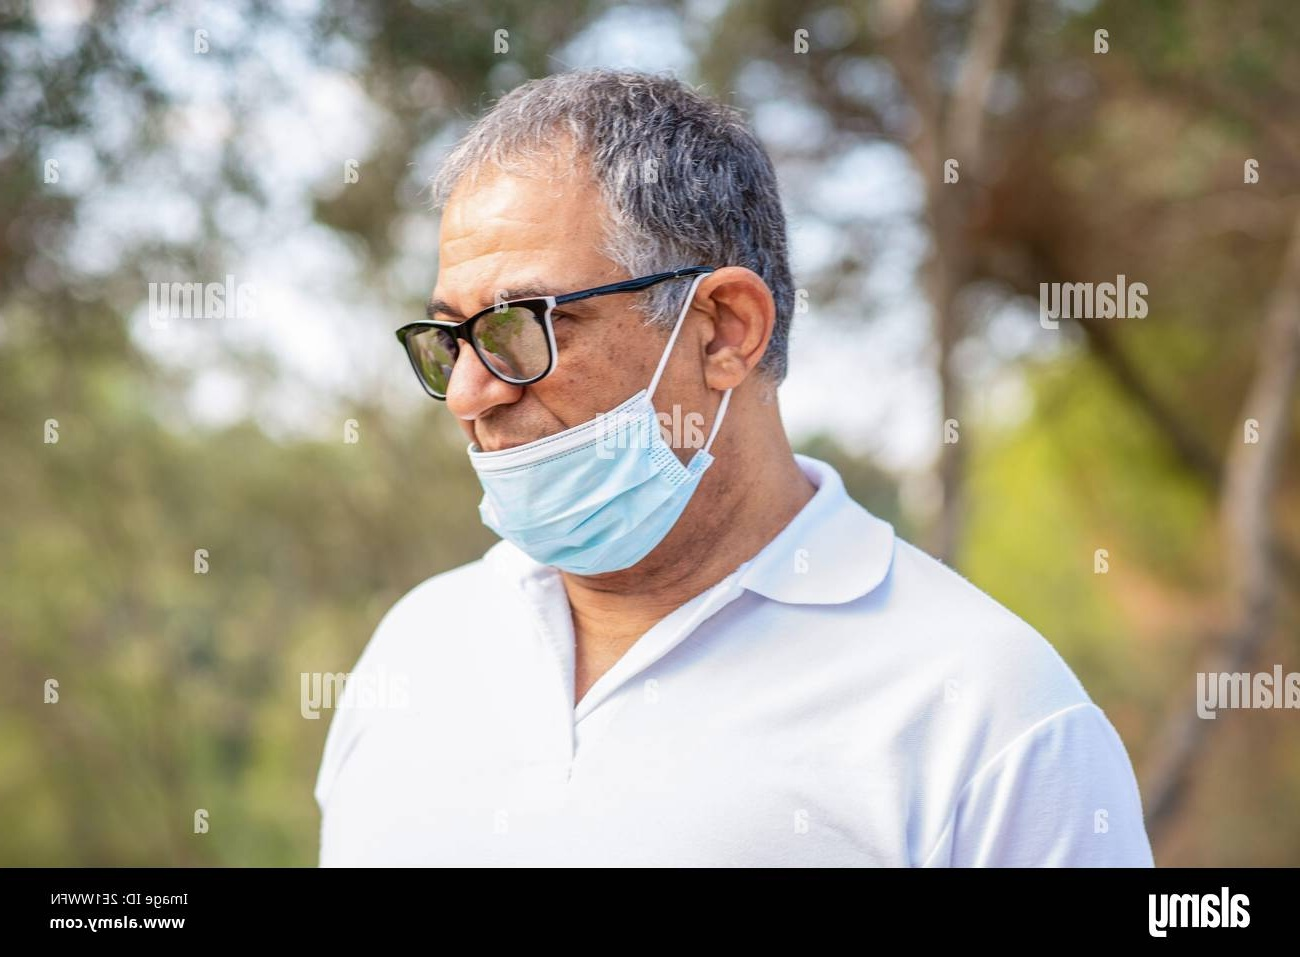mask_weared_incorrect: (409, 95, 801, 606)
